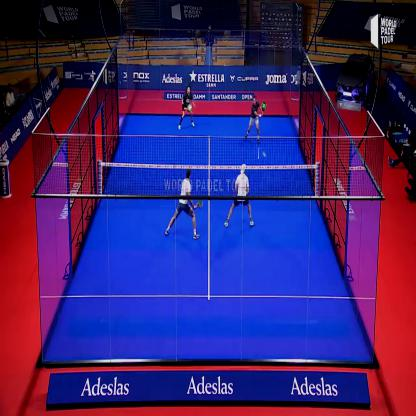ball: (258, 148, 267, 160)
